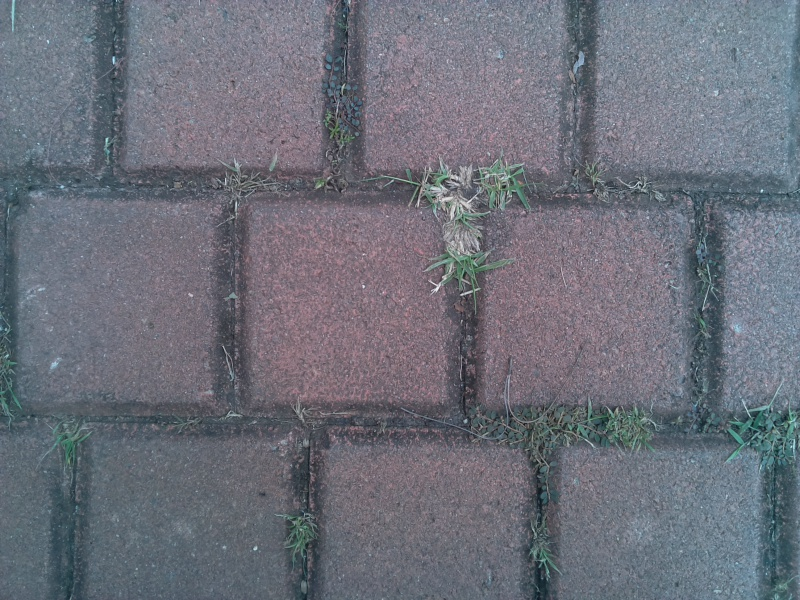Weed: (412, 159, 526, 301), (464, 400, 610, 460), (315, 47, 366, 164), (726, 398, 800, 474), (686, 237, 727, 354), (209, 159, 287, 210), (603, 405, 664, 456), (44, 415, 91, 477), (522, 516, 560, 585), (279, 509, 320, 563), (578, 156, 618, 211), (282, 393, 320, 437), (163, 409, 204, 439)
